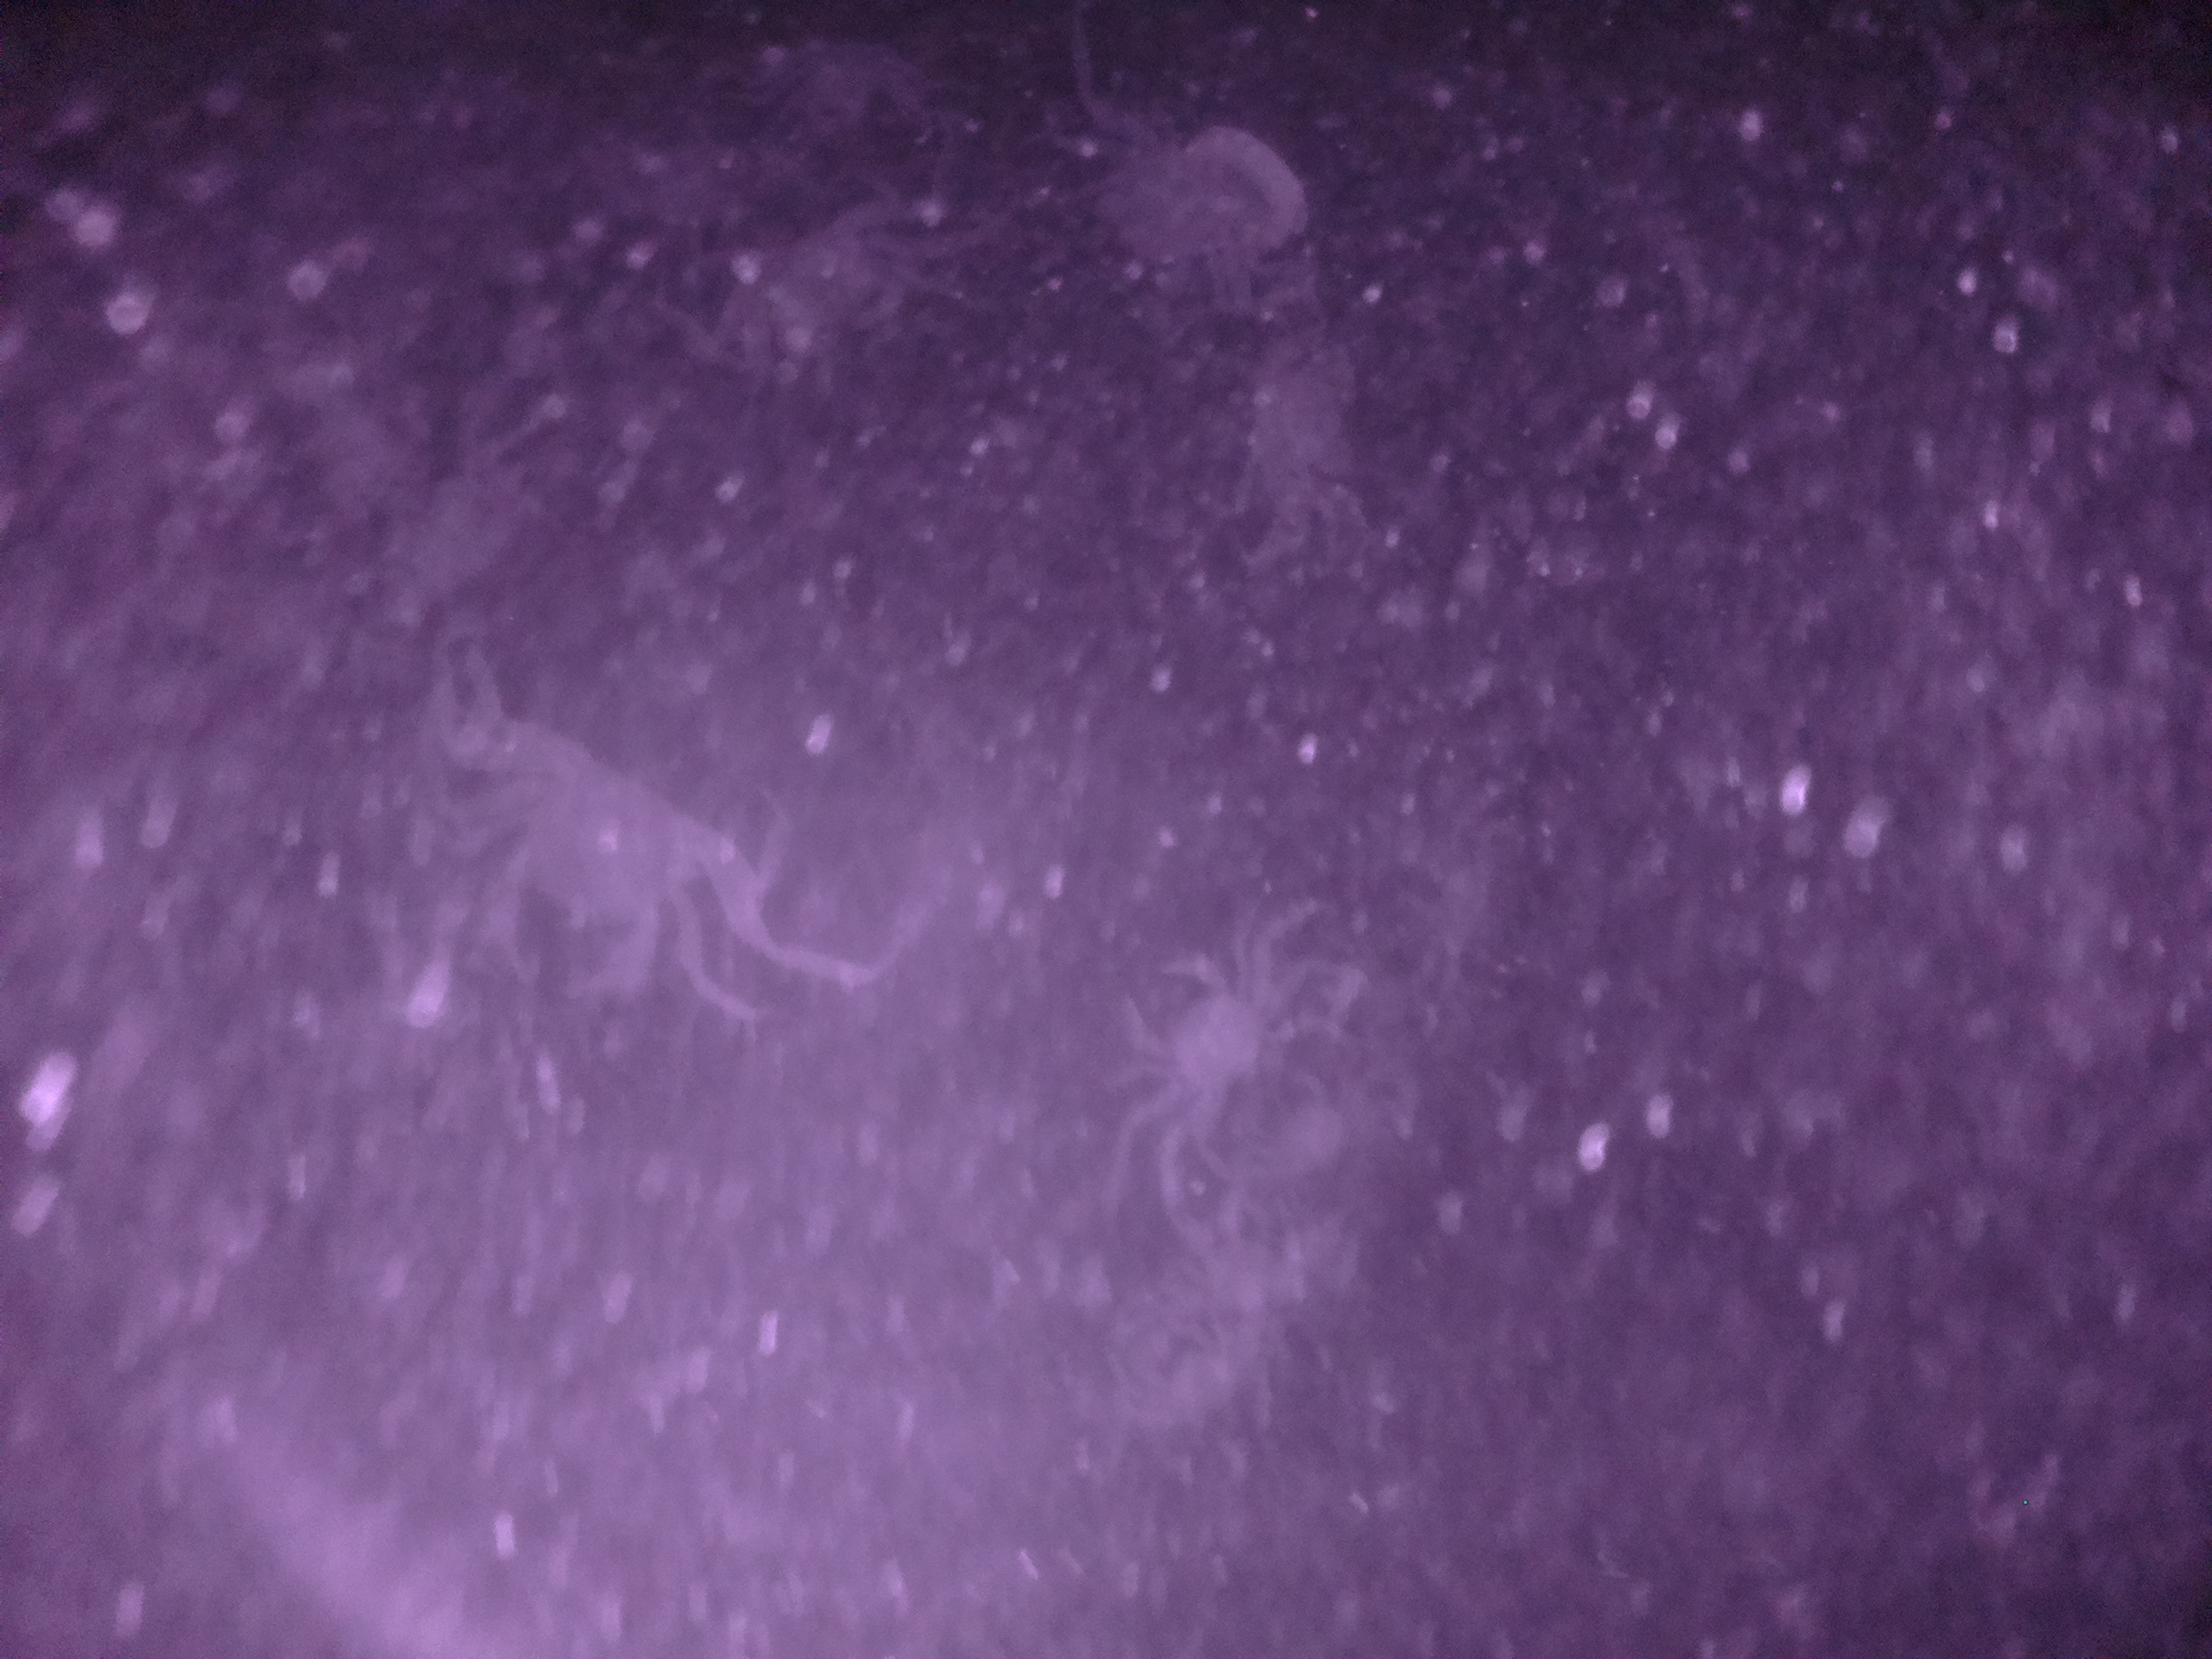Crab: (1097, 938, 1312, 1134)
